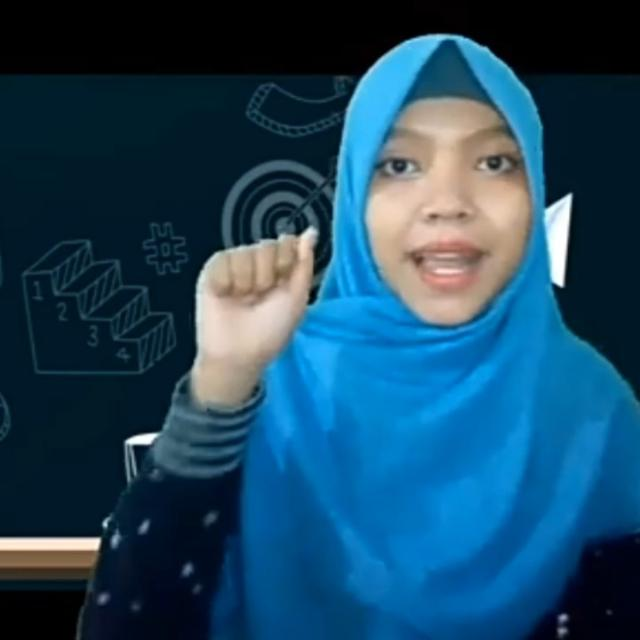A: (182, 220, 322, 372)
